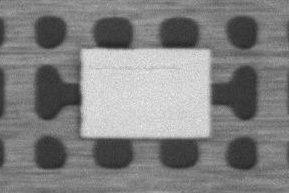DIE_CRACK: (91, 63, 179, 70)
